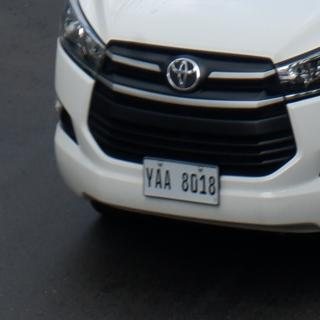license: (144, 159, 220, 206)
